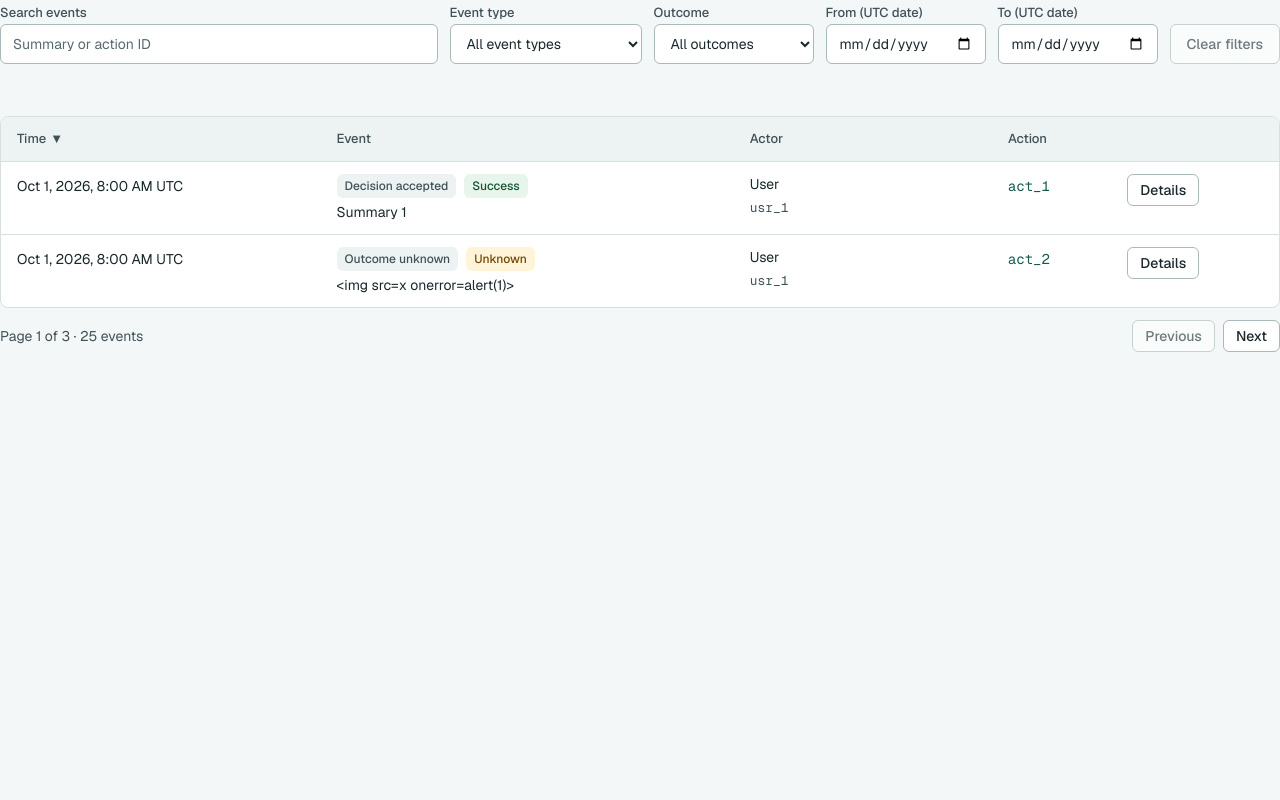
Test case: AuditLog › shows a safe not-found message in the dialog
Check: the number of rows is 3, box [1,117,1279,162]; [1,162,1279,234]; [1,234,1279,307]
Click the button with aria-label "View details for event evt_1" at (1163, 190), box [1127,174,1199,206]
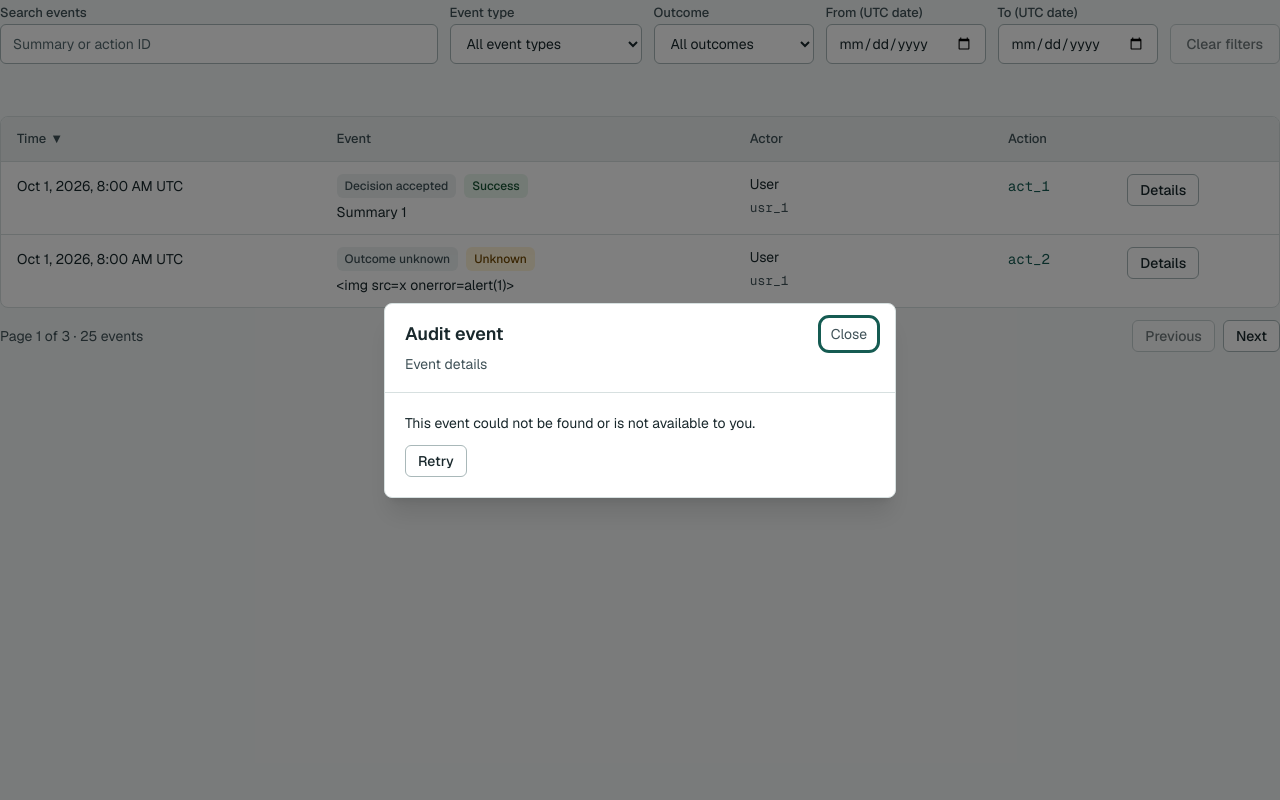
Check: the text "This event could not be found or is not available to you." is shown, box [405,414,755,432]
